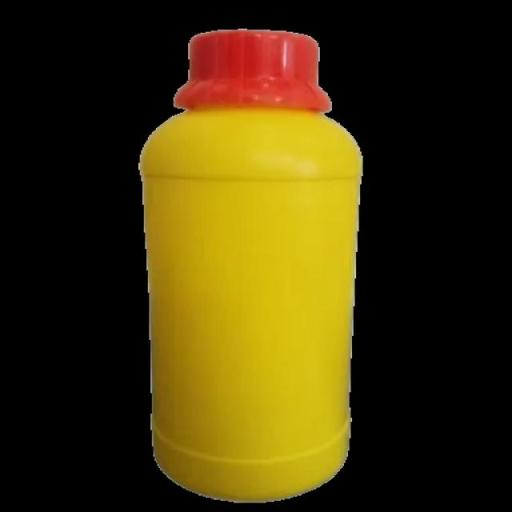plastic: (134, 24, 372, 502)
